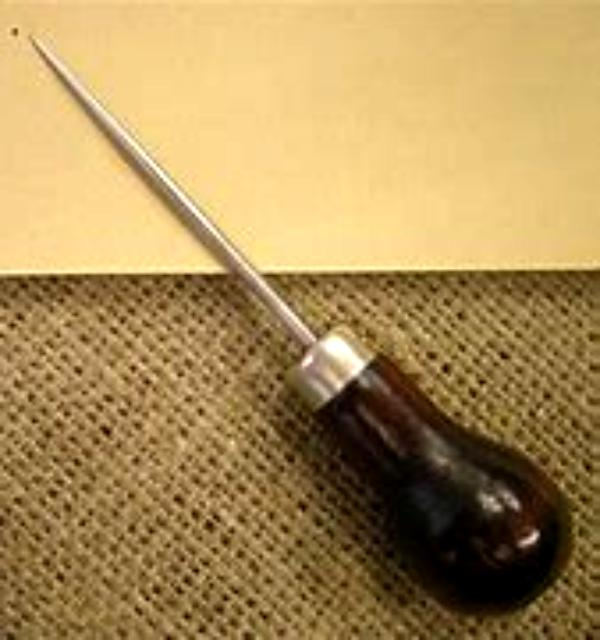ice pick: (25, 22, 583, 626)
